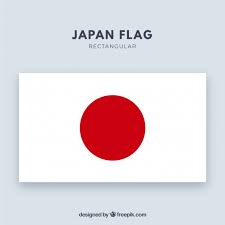Japanese Flag: (16, 71, 208, 185)
